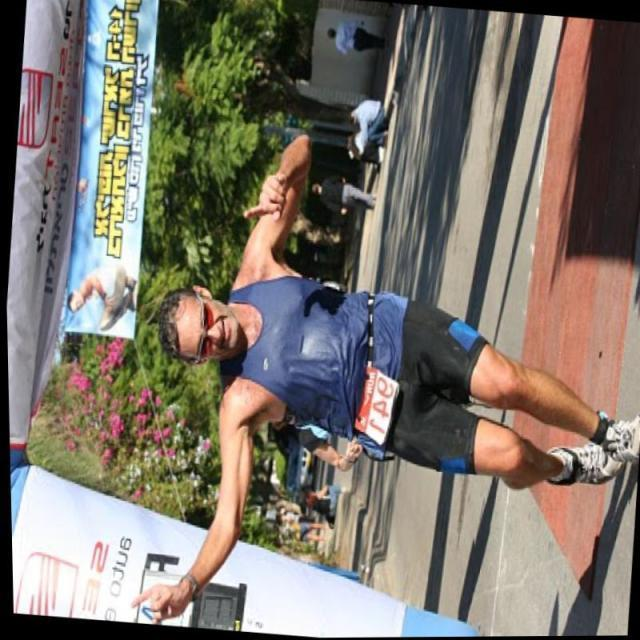dorsal: (350, 358, 400, 456)
